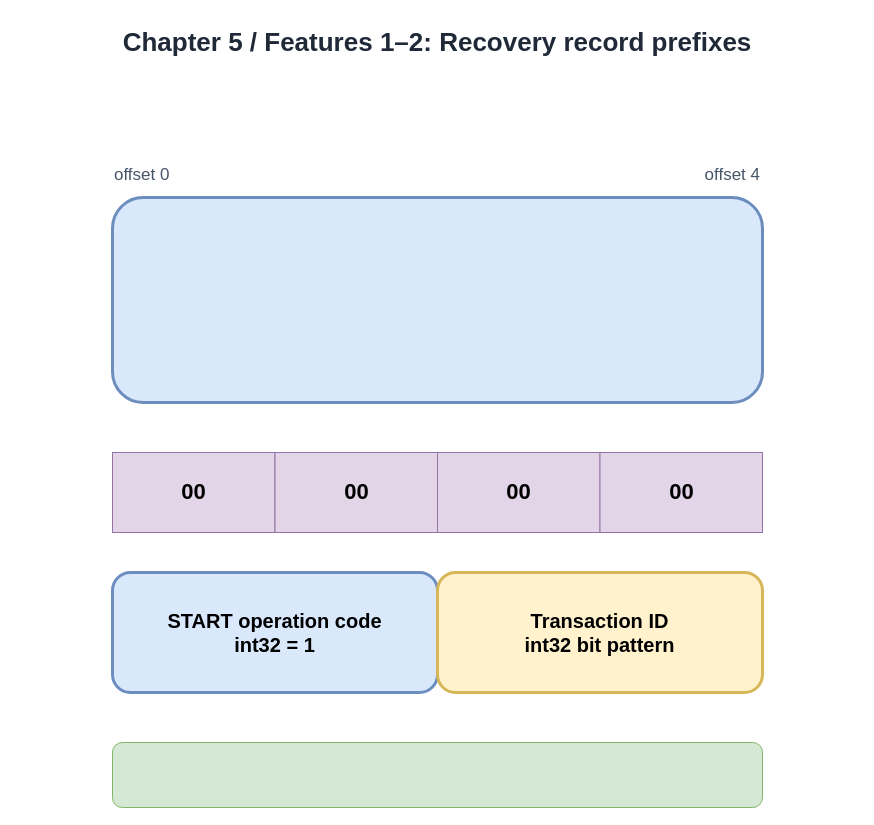
Image size: 874x825. Some labels were removed from this diagram. The centre of each missing label's shape, as x and y in pixels:
"CHECKPOINT = 4 bytes · START = 8 bytes · all integers are big-endian" belongs at pixel 437 775.
"CHECKPOINT operation code int32 = 0 big-endian" belongs at pixel 437 300.
